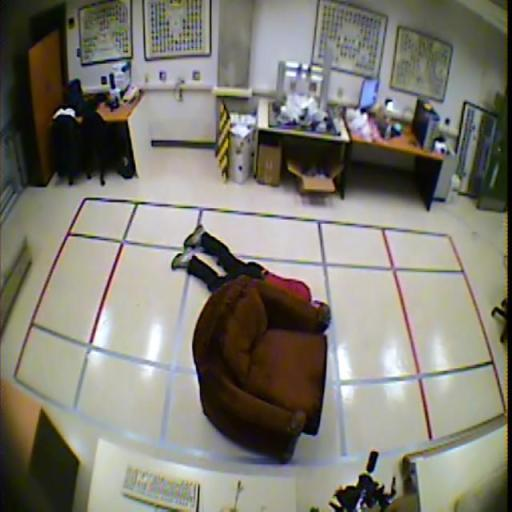Fall: (171, 222, 326, 307)
